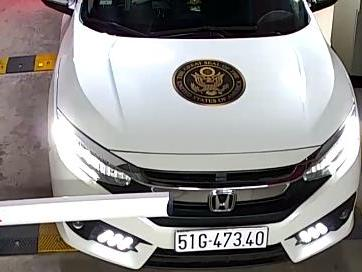number: (175, 224, 268, 252)
